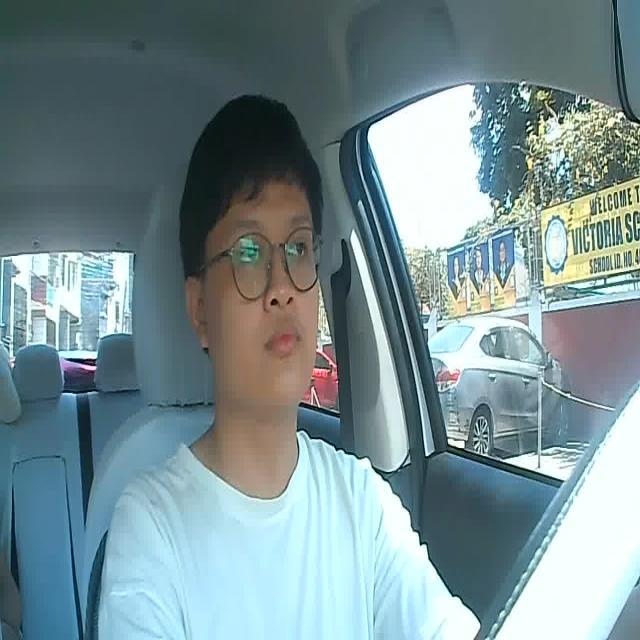Attentive: (180, 91, 328, 406)
Eye-Open: (236, 240, 263, 269), (284, 236, 311, 264)
Normal: (266, 326, 305, 358)
